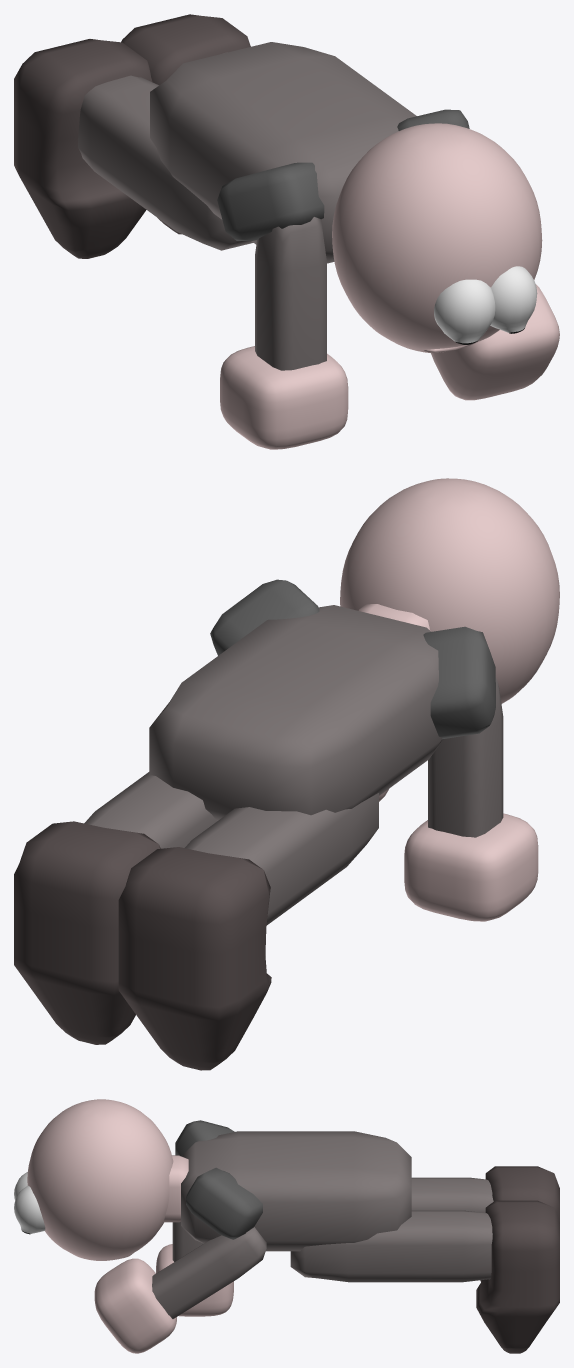
Rendered from CryingMan.fbx.
The picture shows the model from 3 angles, top to bottom: view 1: azimuth 30°, elevation 25°; view 2: azimuth 150°, elevation 25°; view 3: azimuth 270°, elevation 25°; orthographic projection. The views are drawn at different scales.
Parts seen in each view (by area): view 1: head, polySurface2, r_foot, r_leg, r_hand, r_arm, l_hand, r_shoulder, l_foot, r_eye, l_eye, l_shoulder; view 2: polySurface2, head, r_foot, l_foot, r_leg, r_hand, r_arm, r_shoulder, l_leg, l_shoulder, neck; view 3: polySurface2, head, l_leg, l_foot, l_arm, l_hand, l_shoulder, r_leg, r_foot, r_hand, l_eye, r_shoulder (+2 smaller).
Boxes of the visible parts, x1,y1,x2,y2 form: head: (332,123,542,352); polySurface2: (150,42,416,263); r_foot: (14,39,152,258); r_leg: (78,75,253,250); r_hand: (220,346,348,449); r_arm: (255,217,326,370); l_hand: (431,284,559,400); r_shoulder: (217,162,324,240); l_foot: (121,14,250,234); r_eye: (434,279,495,344); l_eye: (490,266,537,333); l_shoulder: (397,109,469,130); polySurface2: (149,605,443,821); head: (340,478,559,703); r_foot: (118,847,271,1070); l_foot: (14,821,160,1044); r_leg: (185,793,378,925); r_hand: (404,813,538,921); r_arm: (428,678,503,837); r_shoulder: (423,626,495,739); l_leg: (84,772,216,848); l_shoulder: (210,579,319,655); neck: (358,604,430,630); polySurface2: (181,1131,411,1251); head: (27,1099,173,1260); l_leg: (290,1210,492,1282); l_foot: (476,1200,559,1353); l_arm: (152,1227,266,1318); l_hand: (94,1258,176,1353); l_shoulder: (186,1167,262,1239); r_leg: (411,1177,493,1212); r_foot: (480,1166,559,1281); r_hand: (156,1244,233,1316); l_eye: (14,1185,45,1234); r_shoulder: (175,1120,234,1156).
Size of the model in its own units: 0.3458 by 0.4095 by 0.8775.
